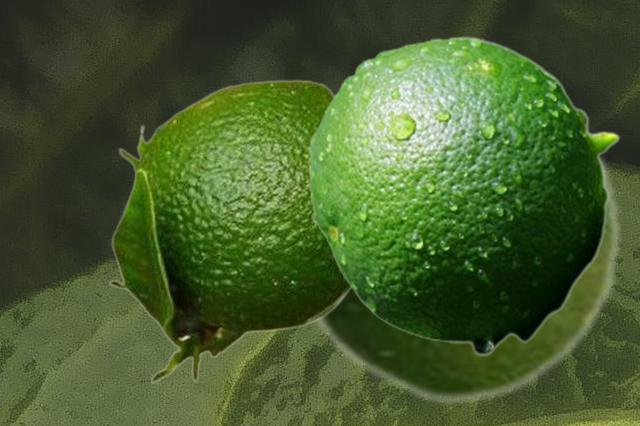dalandan: (308, 35, 619, 356), (309, 154, 622, 407), (107, 79, 351, 383)
